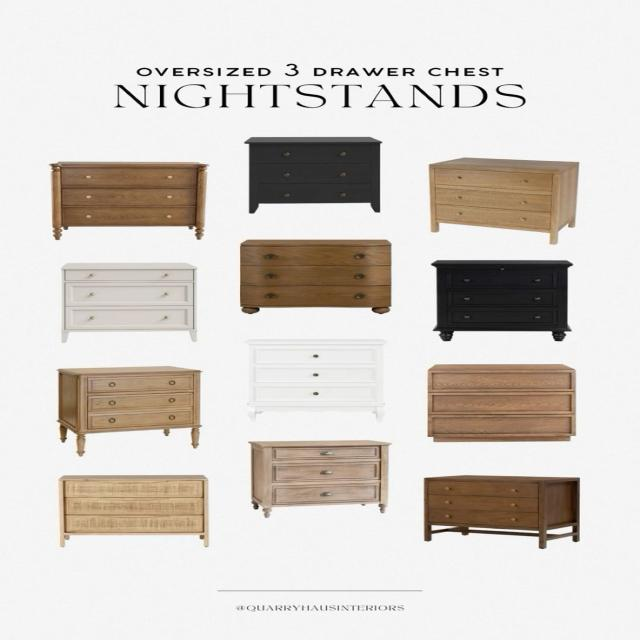obstacle: (56, 366, 202, 456), (427, 157, 578, 244), (49, 161, 208, 240), (426, 363, 576, 442), (423, 475, 580, 549), (431, 259, 572, 341), (238, 239, 392, 314), (244, 338, 387, 418), (57, 474, 209, 548), (248, 440, 391, 518), (60, 262, 197, 342), (244, 136, 381, 213)
